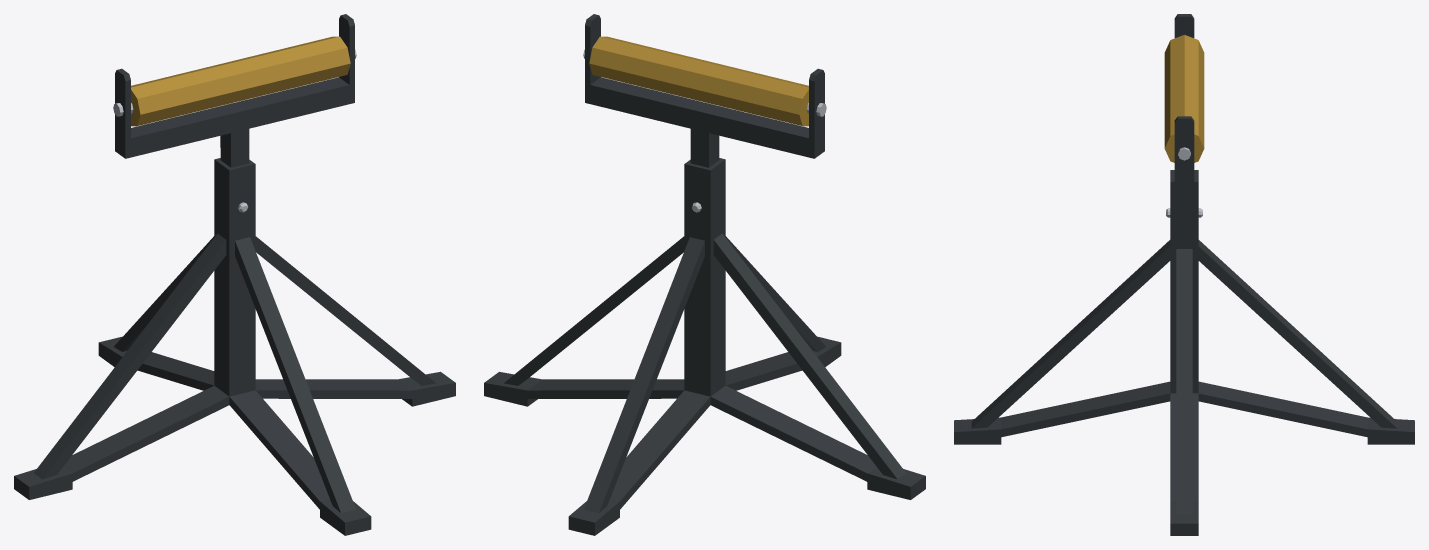
File: SM_Prop_Roller_Stand_01.fbx
The picture shows the model from 3 angles, left to right: view 1: azimuth 30°, elevation 25°; view 2: azimuth 150°, elevation 25°; view 3: azimuth 270°, elevation 25°; orthographic projection. The views are drawn at different scales.
Visible parts, largest first — view 1: SM_Prop_Roller_Stand_01, SM_Prop_Roller_Stand_01_Roller; view 2: SM_Prop_Roller_Stand_01, SM_Prop_Roller_Stand_01_Roller; view 3: SM_Prop_Roller_Stand_01, SM_Prop_Roller_Stand_01_Roller.
Part boxes in pixels (x1,y1,x2,y2): SM_Prop_Roller_Stand_01: [14, 158, 455, 535]; SM_Prop_Roller_Stand_01_Roller: [113, 14, 356, 167]; SM_Prop_Roller_Stand_01: [484, 158, 925, 535]; SM_Prop_Roller_Stand_01_Roller: [583, 14, 826, 167]; SM_Prop_Roller_Stand_01: [954, 170, 1414, 535]; SM_Prop_Roller_Stand_01_Roller: [1164, 14, 1204, 195].
Size of the model in its own units: 100 by 89.32 by 100.
